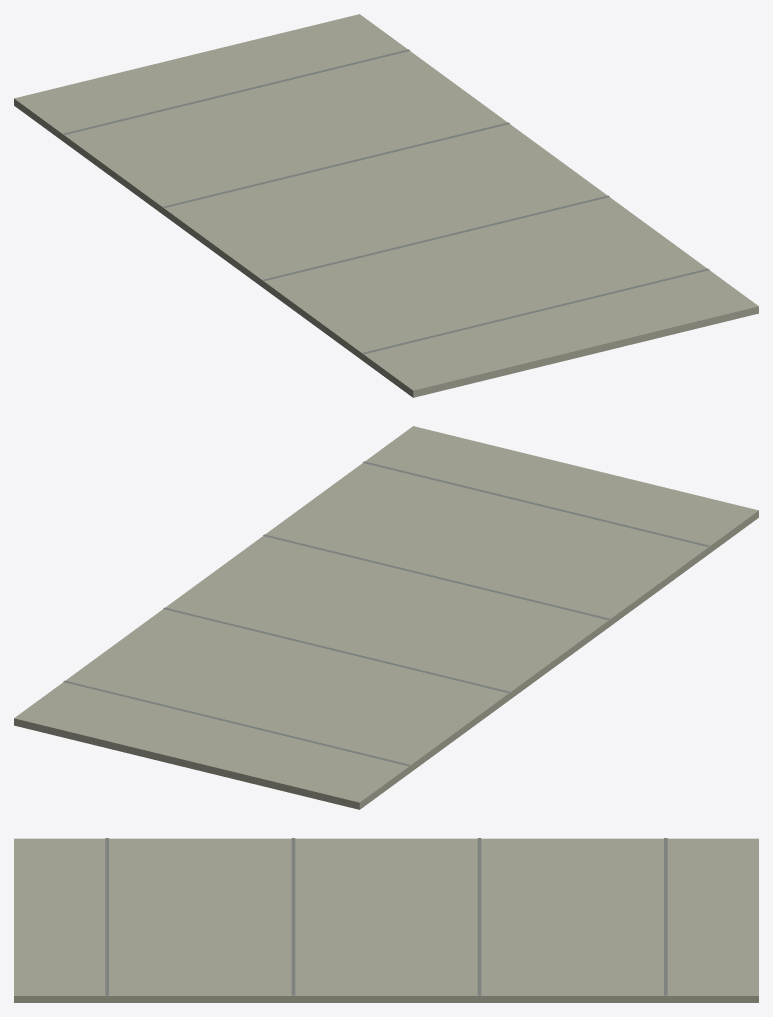
File: ParkPath.obj
3 views of the same model, one above another, from view 1: azimuth 30°, elevation 25°; view 2: azimuth 150°, elevation 25°; view 3: azimuth 270°, elevation 25° (orthographic). The views are drawn at different scales.
Parts seen in each view (by area): view 1: ParkPath; view 2: ParkPath; view 3: ParkPath.
Boxes of the visible parts, x1,y1,x2,y2 form: ParkPath: (14, 14, 758, 397); ParkPath: (14, 426, 758, 809); ParkPath: (14, 838, 758, 1002).
Bounding box in the file's own units: 2 × 0.043 × 4.
